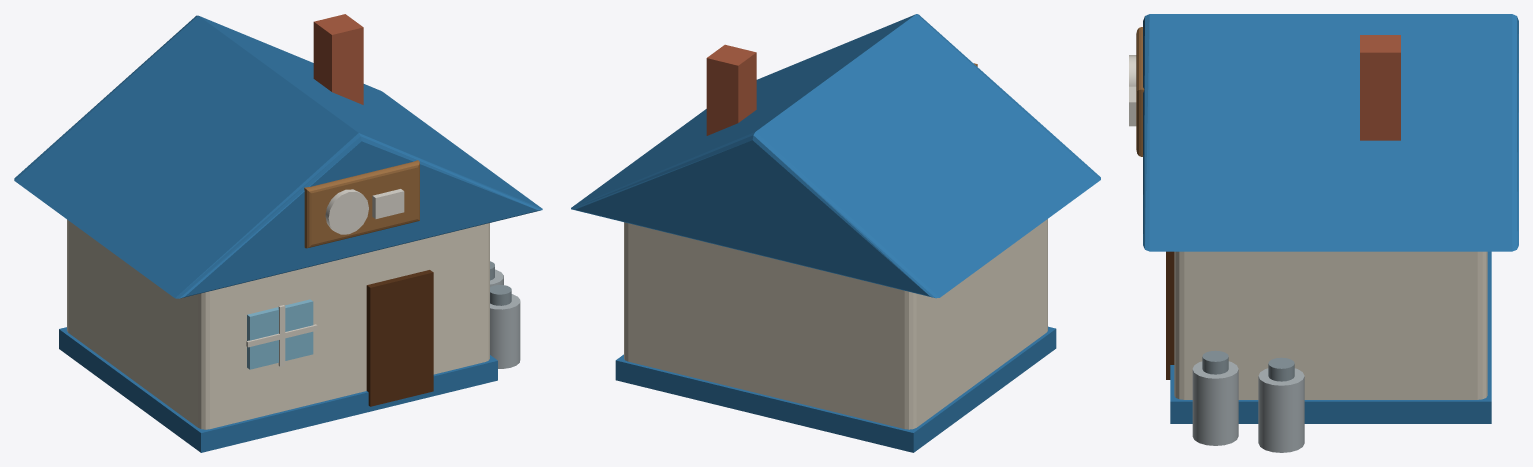
File: dairy.glb
3 views of the same model, side by side, from view 1: azimuth 30°, elevation 25°; view 2: azimuth 150°, elevation 25°; view 3: azimuth 270°, elevation 25° (orthographic). The views are drawn at different scales.
Visible parts, largest first — view 1: farm_dairy; view 2: farm_dairy; view 3: farm_dairy.
Boxes of the visible parts, bbox=[...] form: farm_dairy: bbox=[14, 14, 542, 452]; farm_dairy: bbox=[571, 14, 1100, 452]; farm_dairy: bbox=[1129, 14, 1518, 452].
Size of the model in its own units: 6.09 by 4.6 by 4.73.
